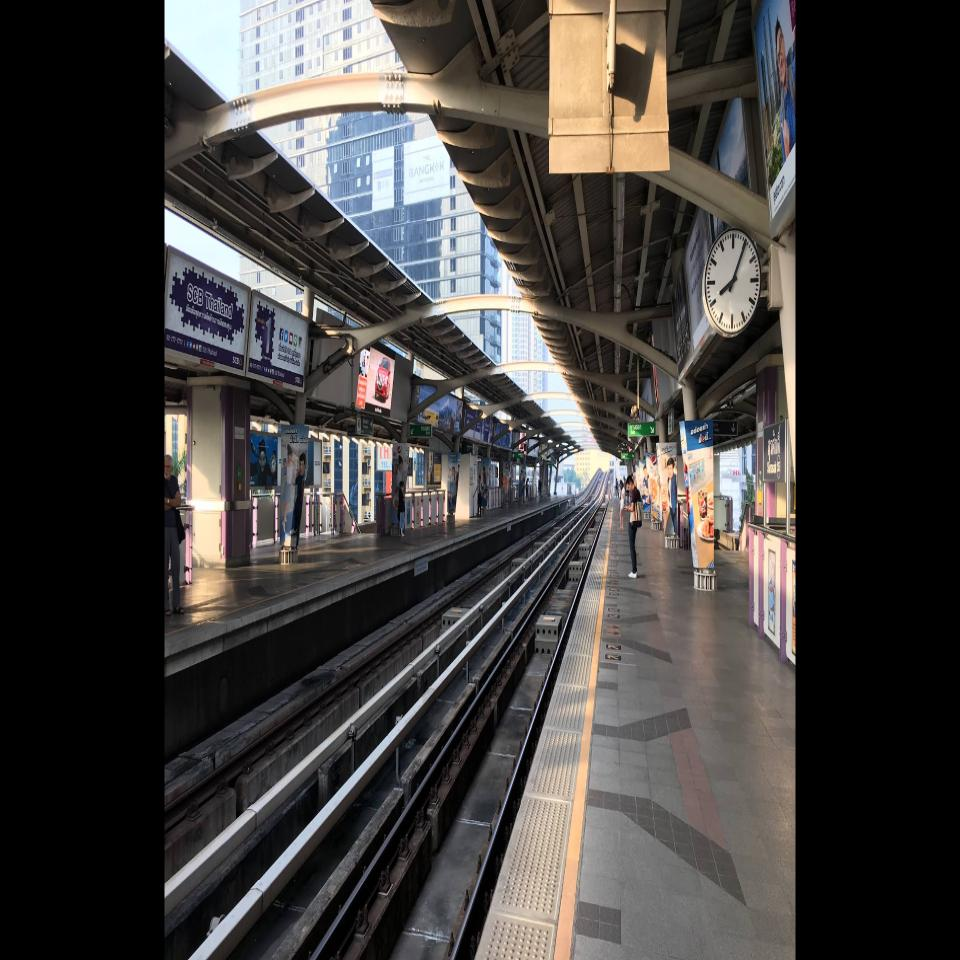Surasak: (762, 418, 788, 482)
